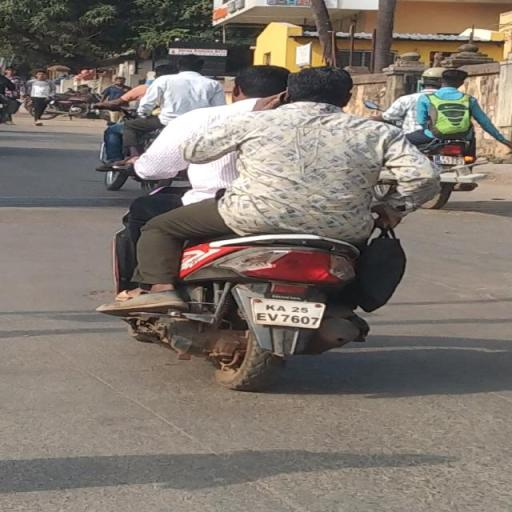bike: (94, 47, 453, 402)
numberplate: (249, 295, 326, 334)
withouthelmet: (294, 69, 352, 103), (236, 67, 286, 98)
